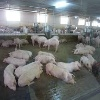heo: (46, 62, 76, 86), (19, 67, 45, 88), (3, 64, 17, 91), (59, 59, 81, 72), (7, 50, 33, 59), (16, 62, 41, 71), (80, 55, 93, 72), (4, 56, 26, 66), (44, 38, 60, 51), (72, 48, 93, 57), (34, 54, 54, 62), (12, 37, 22, 49), (88, 53, 97, 64)
